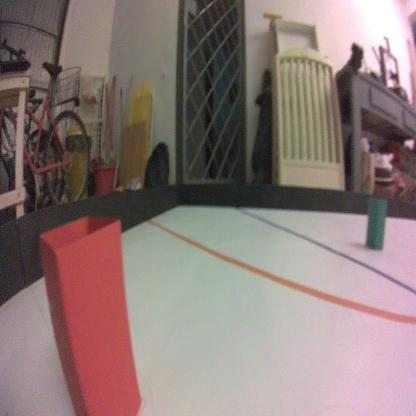green: (366, 198, 388, 252)
red: (38, 214, 142, 416)
